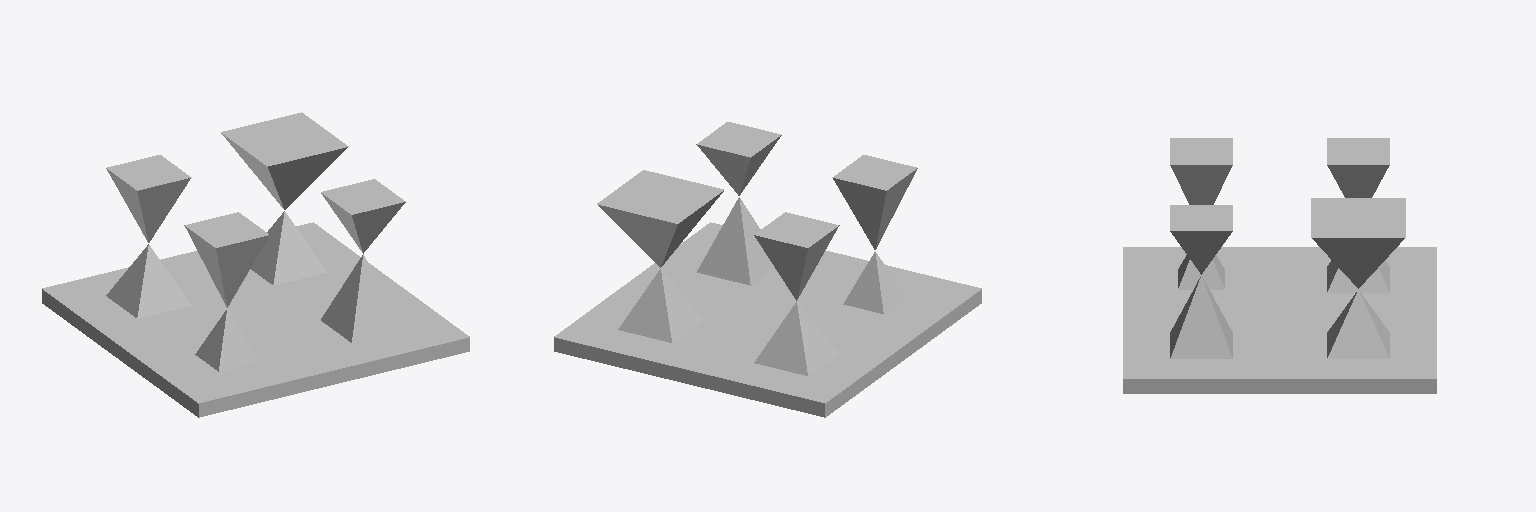
Rendered from floor_pyramids.obj.
3 renders of one model, left to right at view 1: azimuth 30°, elevation 25°; view 2: azimuth 150°, elevation 25°; view 3: azimuth 270°, elevation 25°, orthographic.
Parts seen in each view (by area): view 1: floor_pyramids; view 2: floor_pyramids; view 3: floor_pyramids.
Boxes of the visible parts, x1,y1,x2,y2 form: floor_pyramids: [42, 112, 469, 417]; floor_pyramids: [554, 122, 981, 417]; floor_pyramids: [1123, 138, 1436, 393].
Bounding box in the file's own units: 40 × 20 × 40.